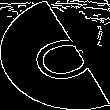O_NE: (12, 25, 98, 85)
